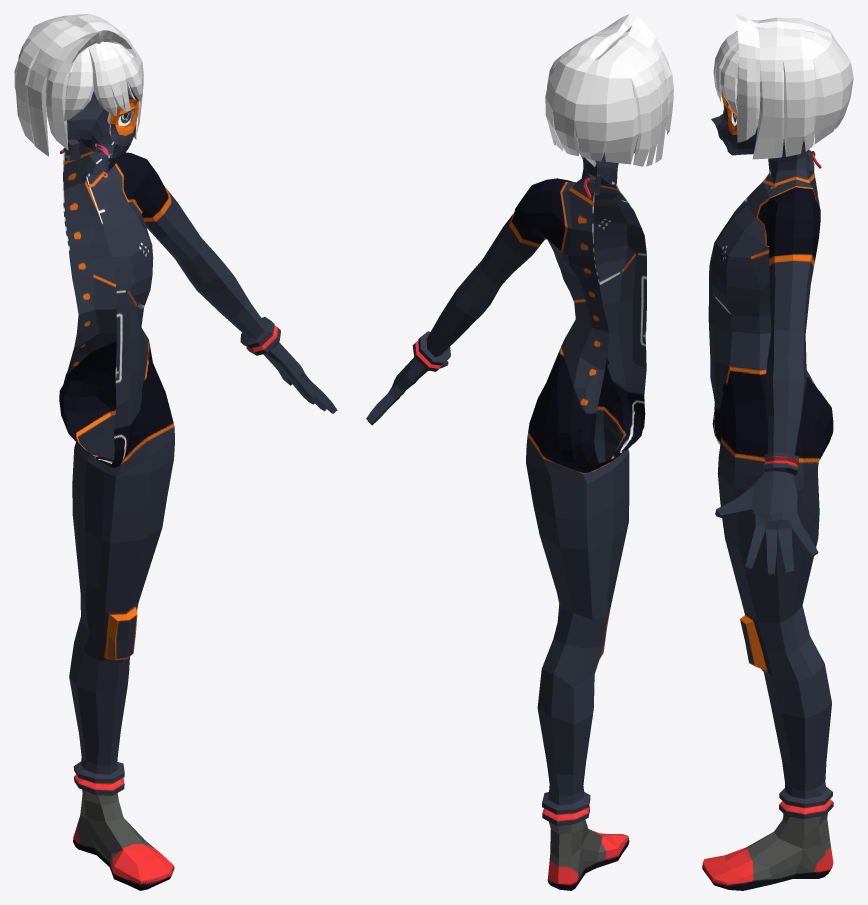
Rendered from my_humanoid 8.glb.
3 views of the same model, side by side, from view 1: azimuth 30°, elevation 25°; view 2: azimuth 150°, elevation 25°; view 3: azimuth 270°, elevation 25° (orthographic).
Visible parts, largest first — view 1: 素体, 髪パーツ.001; view 2: 素体, 髪パーツ.001; view 3: 素体, 髪パーツ.001.
Part boxes in pixels (x1,y1,x2,y2): 素体: (59, 82, 337, 890); 髪パーツ.001: (14, 14, 143, 156); 素体: (366, 136, 646, 890); 髪パーツ.001: (545, 14, 673, 166); 素体: (702, 89, 833, 890); 髪パーツ.001: (713, 14, 853, 159).
Bounding box in the file's own units: 1.6 × 4.45 × 0.7247.
Materials: 10 (2 with a texture image).
